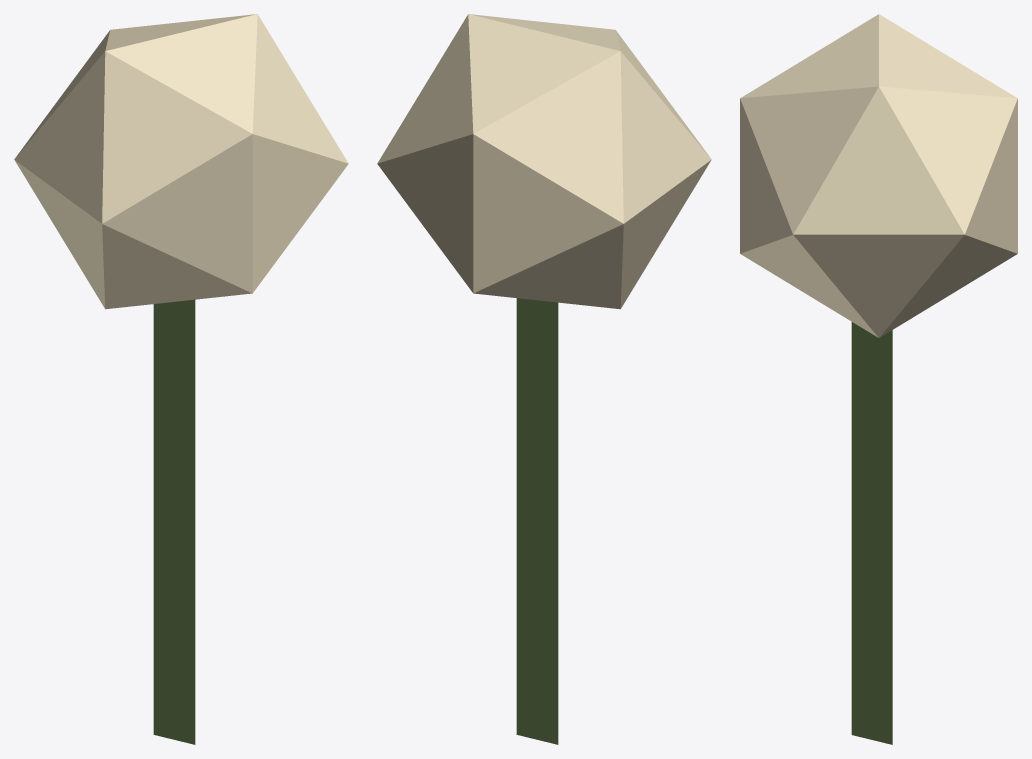
The model's file is flower-f1e5c6.glb.
3 views of the same model, side by side, from view 1: azimuth 30°, elevation 25°; view 2: azimuth 150°, elevation 25°; view 3: azimuth 270°, elevation 25° (orthographic). The views are drawn at different scales.
Parts seen in each view (by area): view 1: flower-f1e5c6; view 2: flower-f1e5c6; view 3: flower-f1e5c6.
Boxes of the visible parts, <box> form: flower-f1e5c6: <box>14,14,348,744</box>; flower-f1e5c6: <box>377,14,711,744</box>; flower-f1e5c6: <box>740,14,1017,744</box>.
Size of the model in its own units: 0.1531 by 0.4166 by 0.1531.
